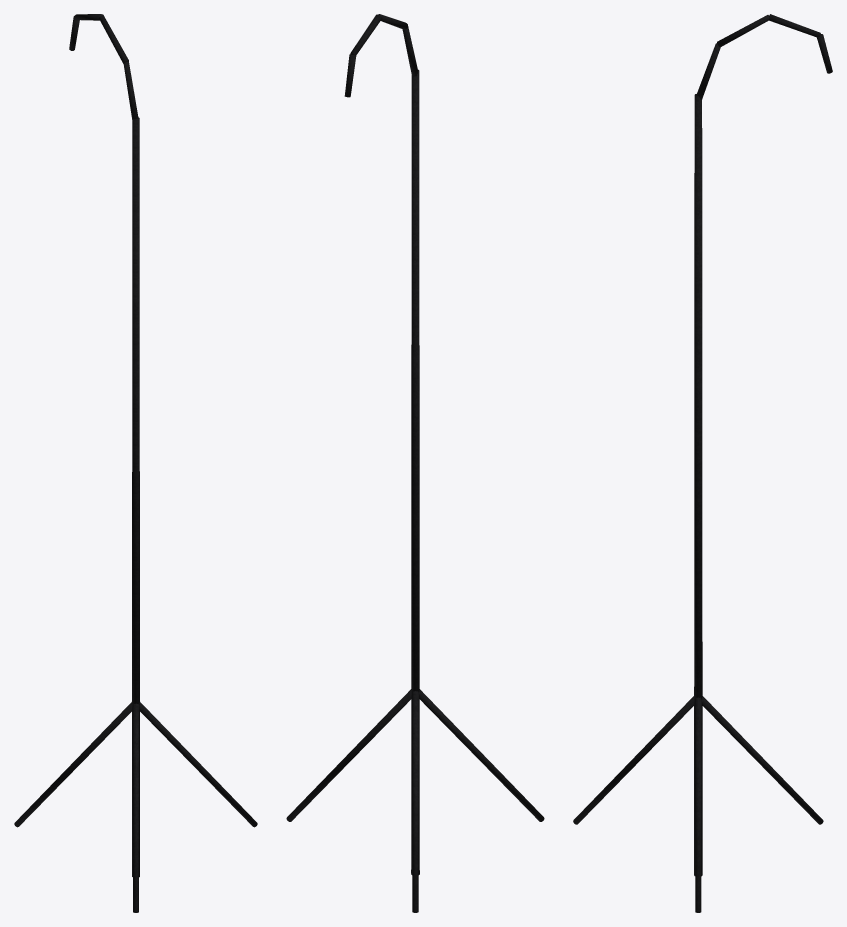
The model's file is lantern_stand.glb.
The picture shows the model from 3 angles, left to right: view 1: azimuth 30°, elevation 25°; view 2: azimuth 150°, elevation 25°; view 3: azimuth 270°, elevation 25°; orthographic projection. The views are drawn at different scales.
Visible parts, largest first — view 1: LanternStand; view 2: LanternStand; view 3: LanternStand.
Boxes of the visible parts, bbox=[...] form: LanternStand: bbox=[14, 14, 257, 912]; LanternStand: bbox=[286, 14, 544, 912]; LanternStand: bbox=[573, 14, 832, 912].
Bounding box in the file's own units: 0.4299 × 1.88 × 0.5133.
1 material, 1 textured.
